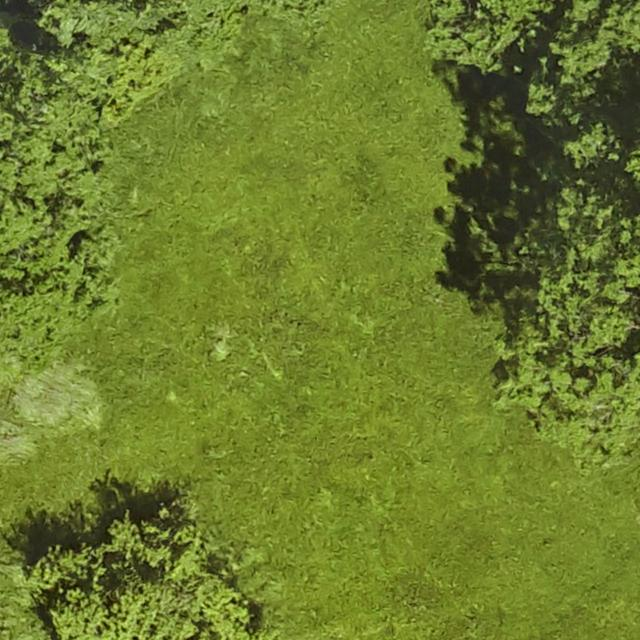tree: (510, 126, 640, 462), (1, 33, 117, 374), (40, 521, 255, 640), (435, 0, 640, 118)
